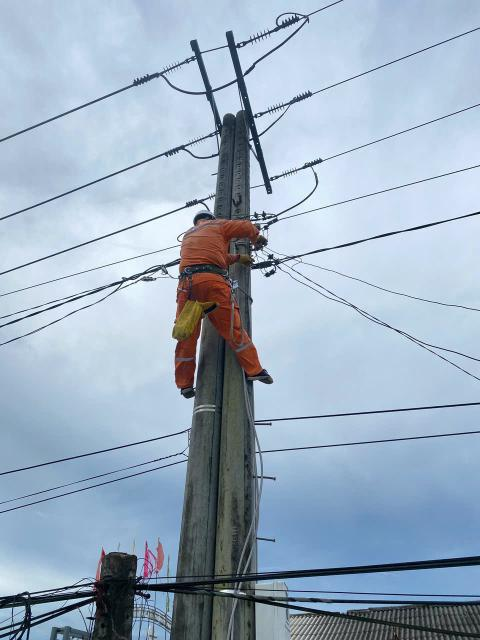gloves: (232, 249, 258, 269), (254, 234, 271, 252)
harness: (166, 256, 231, 281)
helmet: (192, 206, 221, 230)
shoes: (242, 364, 281, 390), (174, 382, 202, 402)
